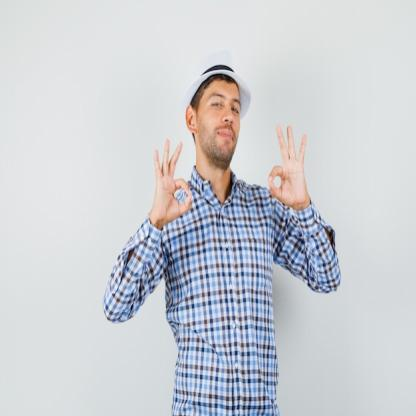ok: (263, 121, 313, 212), (151, 135, 196, 234)
